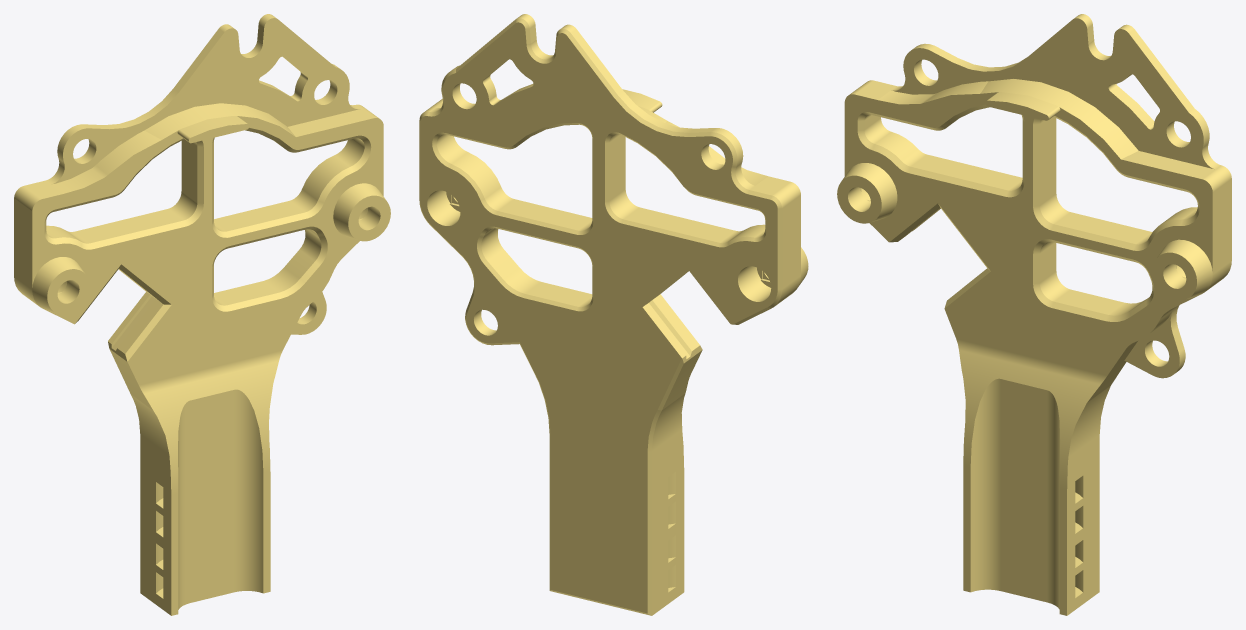
The model's file is A4T - THB Mount - WWG2.gltf.
The picture shows the model from 3 angles, left to right: view 1: azimuth 30°, elevation 25°; view 2: azimuth 150°, elevation 25°; view 3: azimuth 330°, elevation 25°; orthographic projection. The views are drawn at different scales.
Parts seen in each view (by area): view 1: A4T - THB Mount - WWG2; view 2: A4T - THB Mount - WWG2; view 3: A4T - THB Mount - WWG2.
Part boxes in pixels (x1,y1,x2,y2): A4T - THB Mount - WWG2: [14, 14, 390, 615]; A4T - THB Mount - WWG2: [419, 14, 808, 615]; A4T - THB Mount - WWG2: [837, 14, 1231, 615].
Size of the model in its own units: 0.0512 by 0.0763 by 0.00826.
